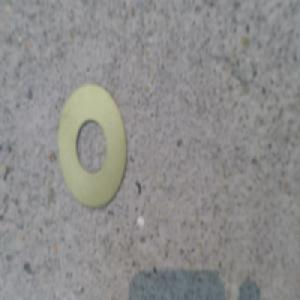Washer: (58, 84, 130, 213)
